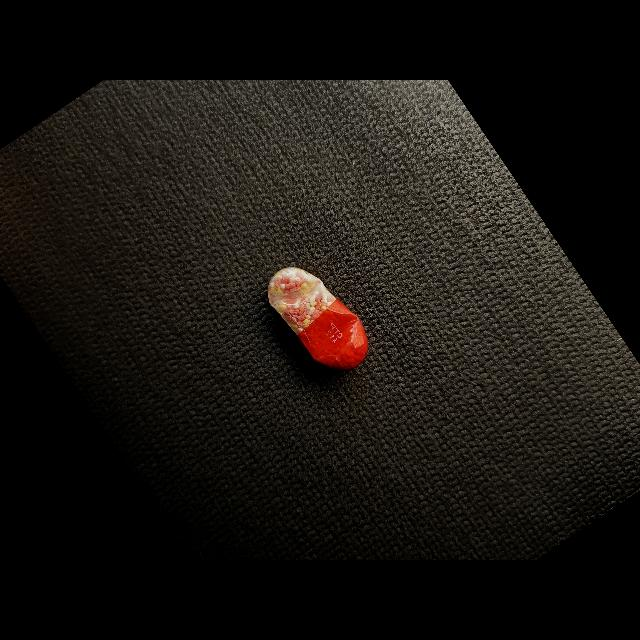Defective Capsule: (268, 267, 368, 370)
